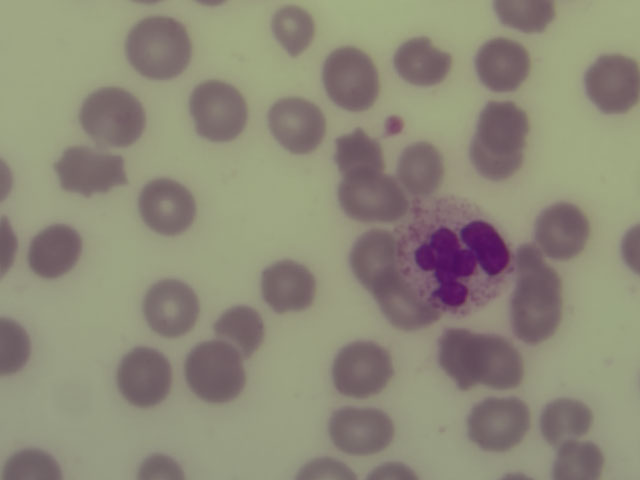Platelets: (378, 113, 409, 137)
RBC: (78, 86, 144, 145), (126, 16, 192, 73), (334, 171, 404, 221), (52, 151, 125, 195), (331, 406, 394, 452), (435, 327, 478, 391), (466, 135, 526, 180), (351, 234, 400, 285), (475, 397, 524, 448), (541, 393, 590, 444), (472, 335, 521, 386), (512, 289, 561, 340), (517, 248, 566, 299), (538, 203, 587, 254), (588, 56, 637, 107), (398, 142, 447, 193), (337, 341, 386, 392), (263, 258, 312, 309), (217, 304, 266, 355), (192, 346, 241, 397), (120, 352, 169, 403), (147, 282, 196, 333), (29, 228, 78, 279), (139, 180, 188, 231), (479, 99, 528, 150), (478, 39, 527, 90), (393, 35, 442, 86), (324, 54, 373, 105), (267, 4, 316, 55), (273, 100, 322, 151), (193, 82, 242, 133), (548, 437, 605, 480), (1, 445, 67, 480), (334, 127, 384, 171), (1, 317, 32, 382), (138, 450, 192, 480), (300, 450, 354, 480), (494, 1, 557, 26)
WBC: (400, 201, 516, 316)
